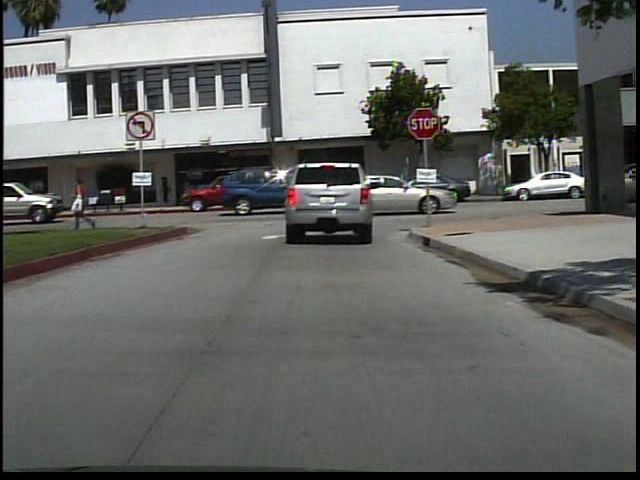person: (69, 174, 105, 234), (292, 162, 320, 234), (158, 172, 177, 209), (180, 173, 198, 208)
